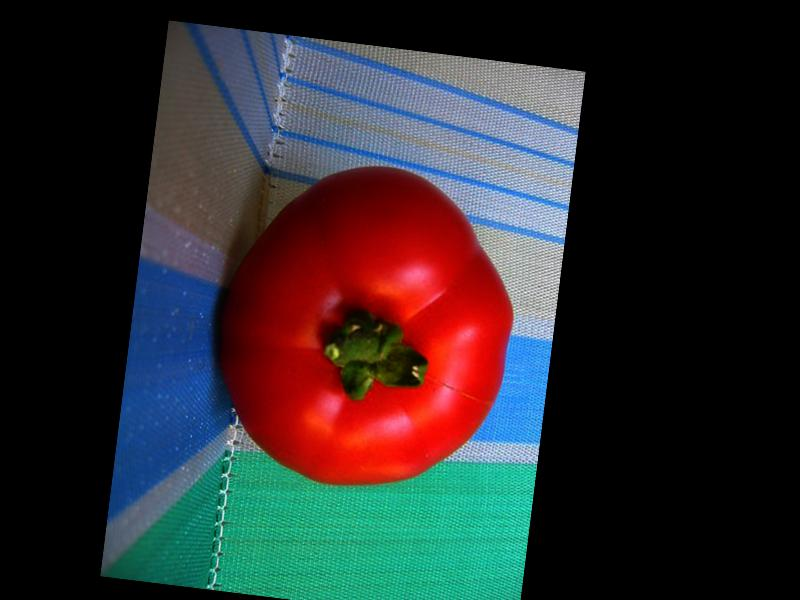Tomato: (201, 151, 529, 503)
